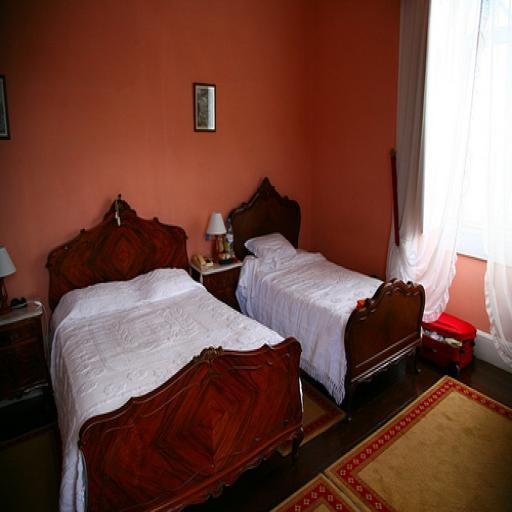bed: (42, 170, 432, 438)
